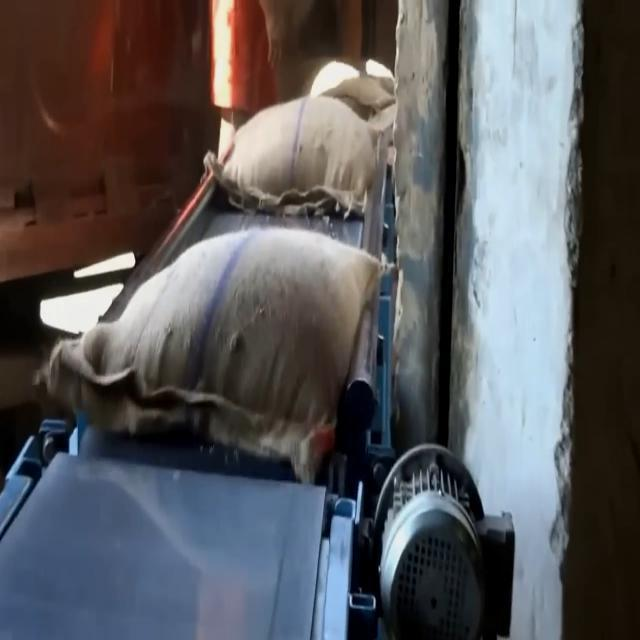gunny_bag: (33, 223, 405, 480), (218, 97, 383, 218)
